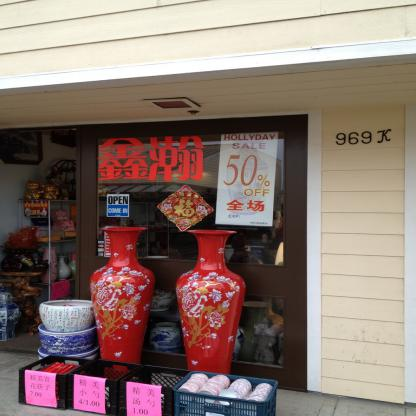vase: (89, 225, 155, 381), (174, 230, 246, 372), (38, 246, 56, 282), (56, 252, 69, 282)
